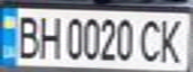0: (115, 15, 139, 63), (63, 14, 84, 61), (81, 14, 100, 61)
2: (100, 15, 118, 62)
B: (9, 11, 42, 60)
C: (136, 16, 163, 63)
H: (36, 11, 63, 60)
K: (154, 15, 190, 64)
